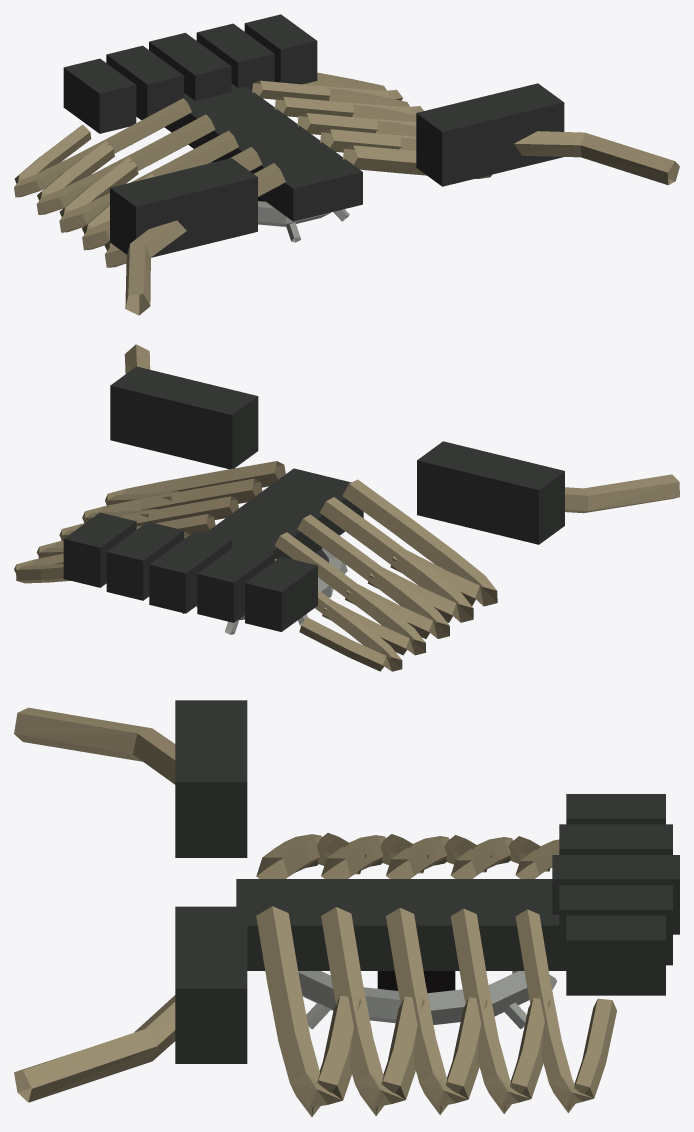
3 views of the same model, one above another, from view 1: azimuth 30°, elevation 25°; view 2: azimuth 150°, elevation 25°; view 3: azimuth 270°, elevation 25° (orthographic). The views are drawn at different scales.
Bounding box in the file's own units: 1.59 × 0.3113 × 1.2.
